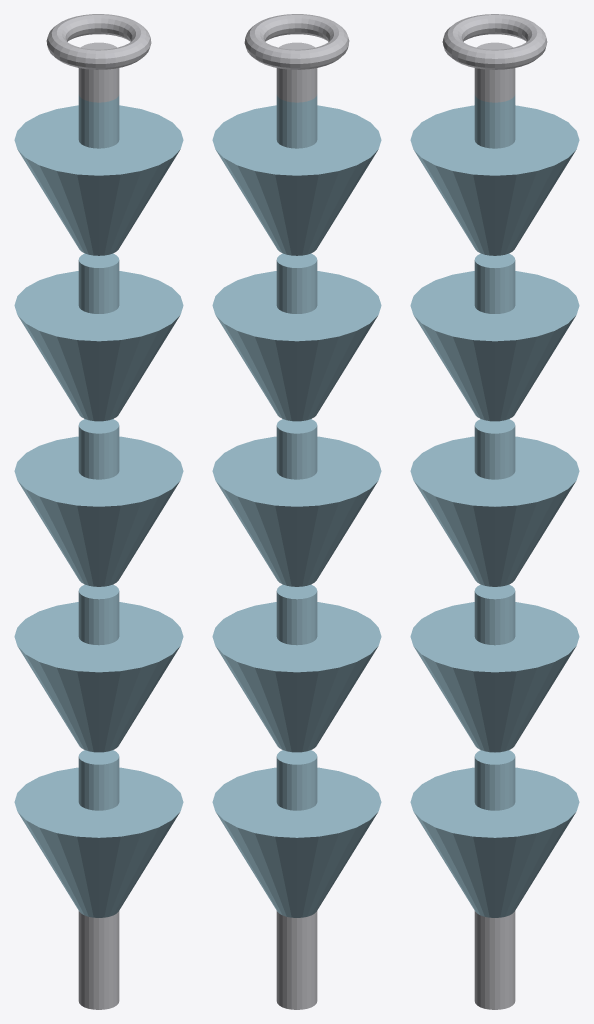
The model's file is Cadena_632mm.fbx.
3 renders of one model, left to right at view 1: azimuth 30°, elevation 25°; view 2: azimuth 150°, elevation 25°; view 3: azimuth 270°, elevation 25°, orthographic.
Parts seen in each view (by area): view 1: Cadena_632mm; view 2: Cadena_632mm; view 3: Cadena_632mm.
Part boxes in pixels (box(x1,y1,x2,y2)): Cadena_632mm: box(14, 14, 183, 1009); Cadena_632mm: box(212, 14, 381, 1009); Cadena_632mm: box(410, 14, 579, 1009).
Bounding box in the file's own units: 10 × 63.2 × 10.
